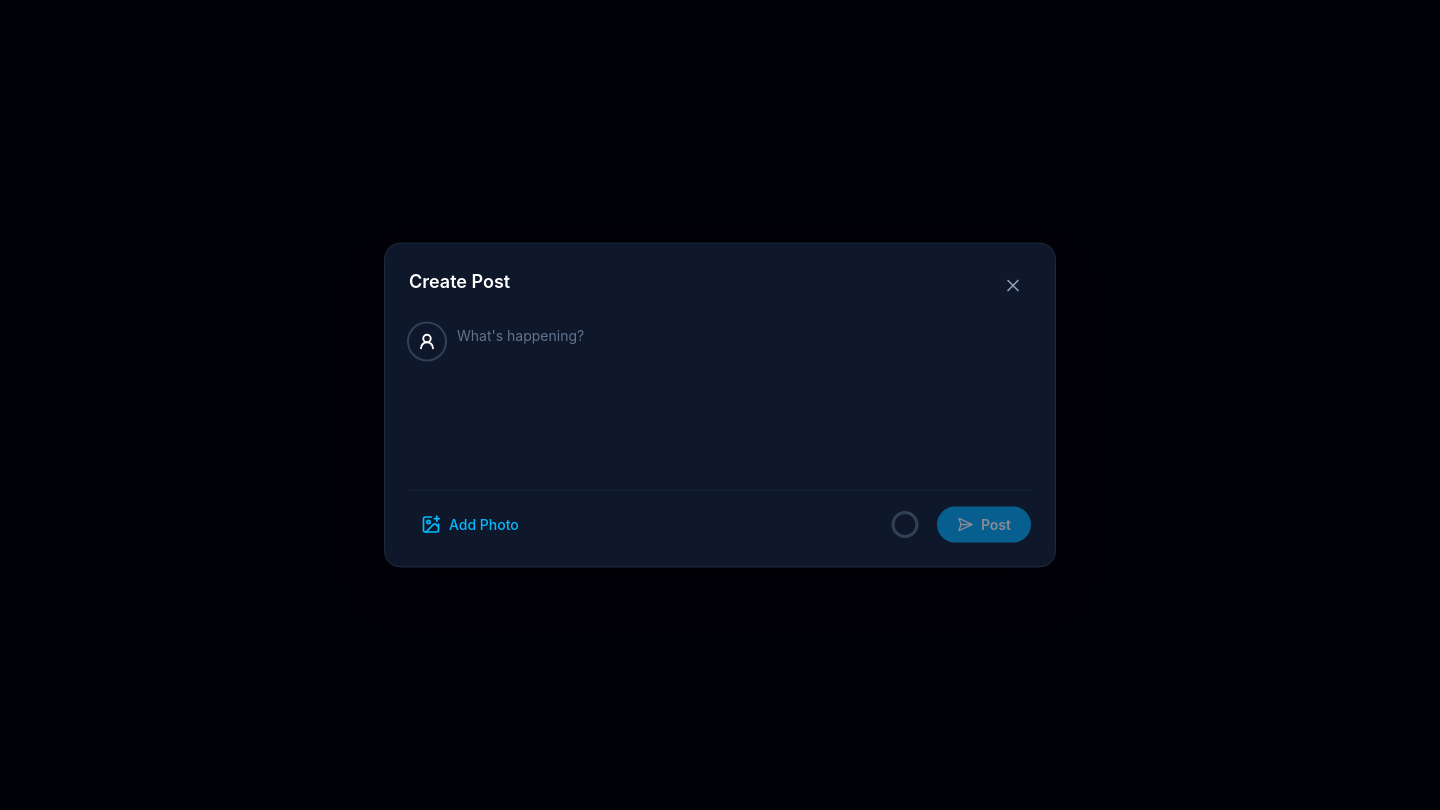
it: CreatePostModal › trims and submits post content, then closes and resets after success
Type "  Hello Postify  " into the text box with placeholder "What's happening?" at (744, 396), box x1=457 y1=324 x2=1031 y2=468
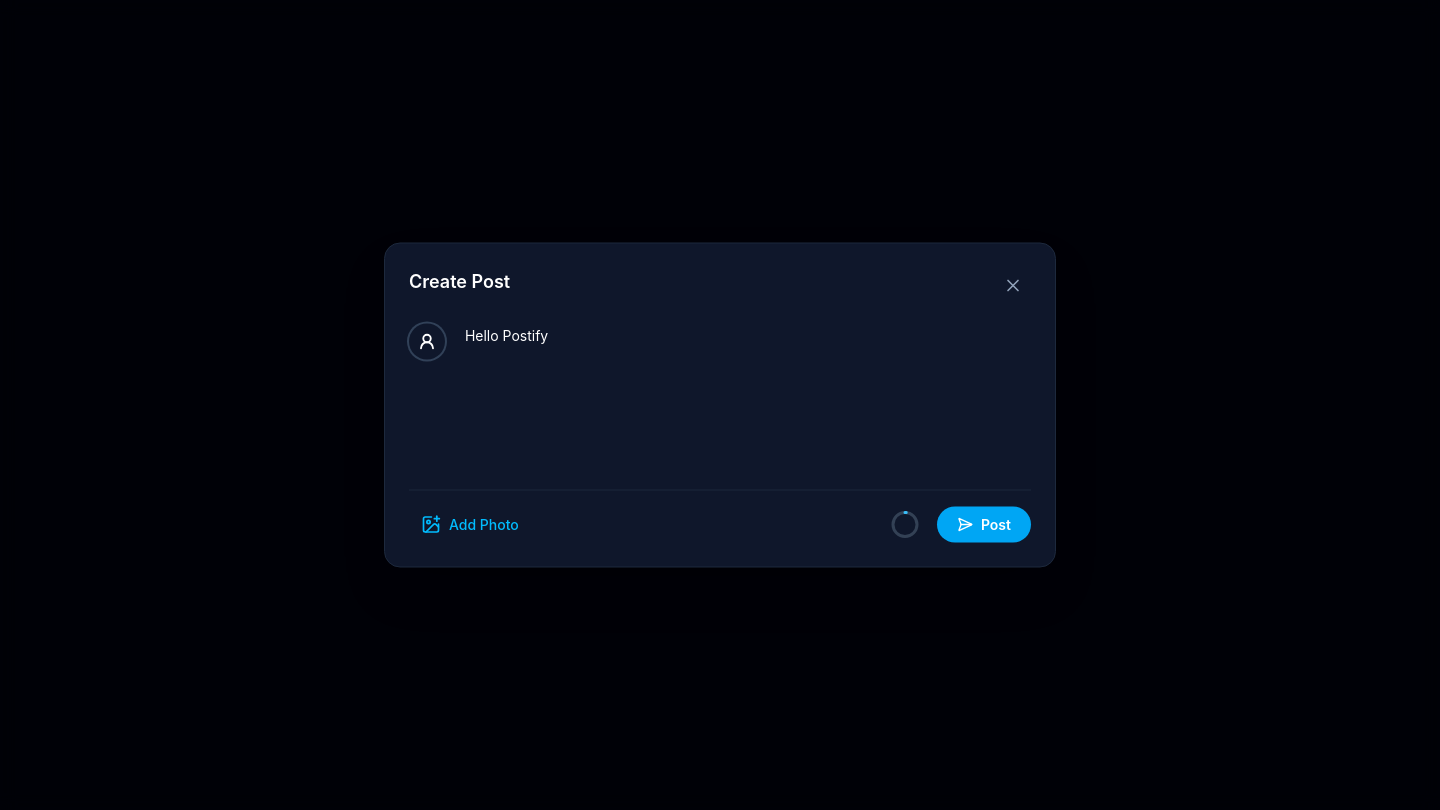
Click the button "Post" at (984, 524), box x1=937 y1=506 x2=1031 y2=542
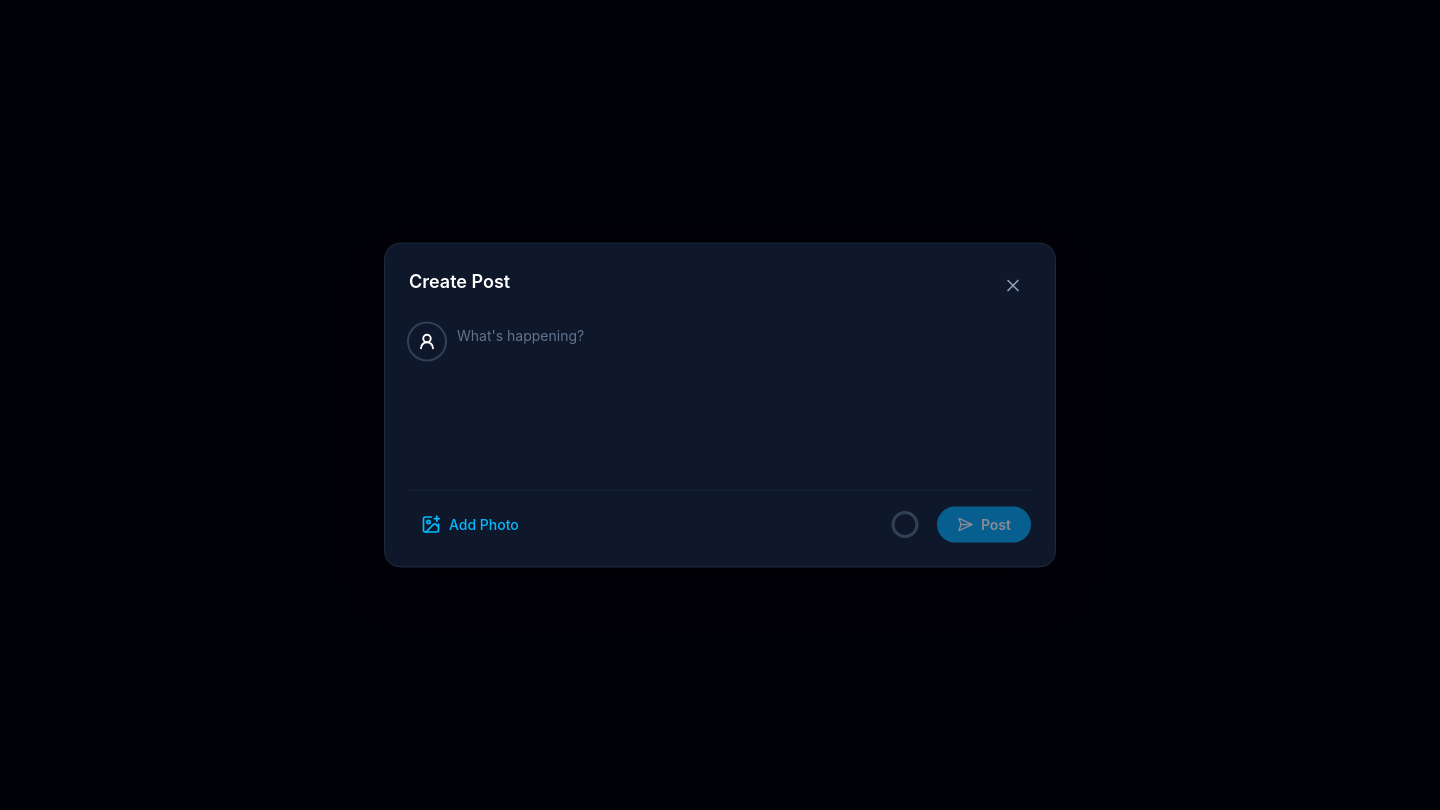
Check: the text box with placeholder "What's happening?" is empty, box x1=457 y1=324 x2=1031 y2=468
